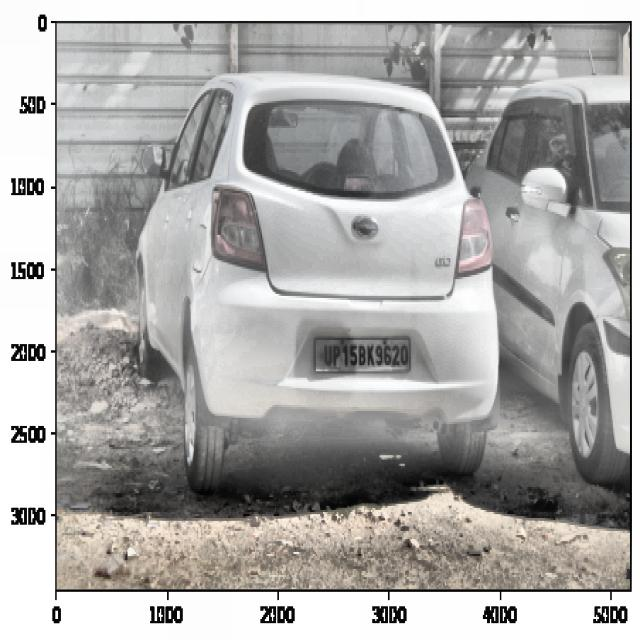license_plate: (320, 339, 413, 374)
